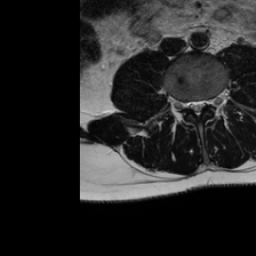CCS_stenosis: (194, 92, 201, 122)
LFS_stenosis: (208, 93, 215, 114)
LLS_stenosis: (201, 94, 207, 115)
RFS_stenosis: (180, 93, 188, 114)
RLS_normal: (188, 94, 194, 115)
